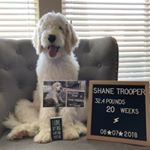puppy: (26, 9, 90, 144)
